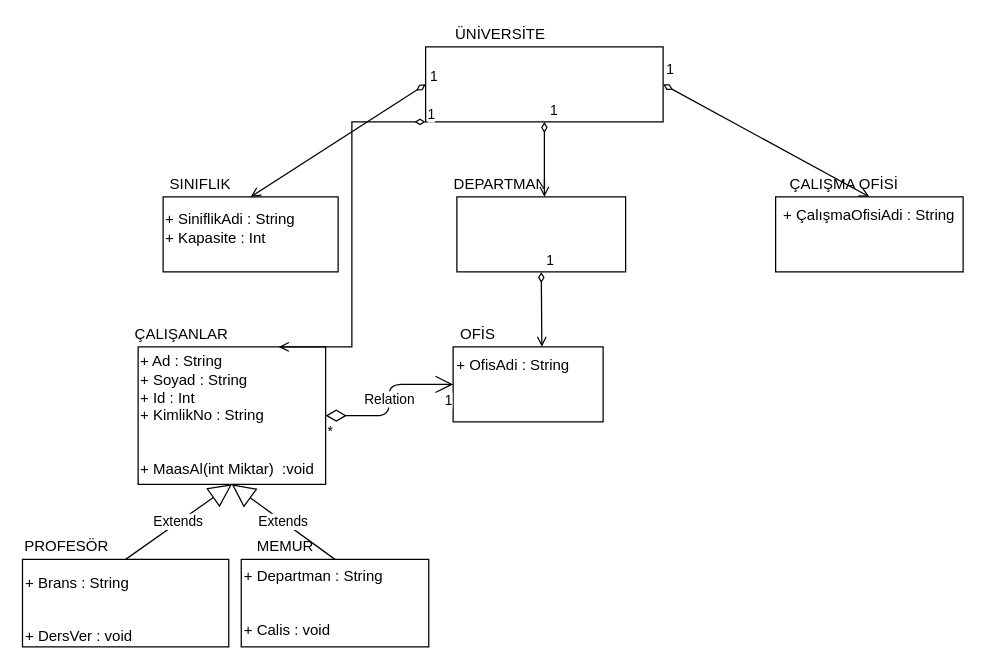
Some shapes in this 985 by 669 pixel diagram are drawn without their labels. The shapes that lost their labels are listed below. From the top down, each one's centre as x and y in pixels, then its label:
At point 543,84: "+ UniversiteAdi : String".
At point 541,234: "+ DepartmanAdi : String".
